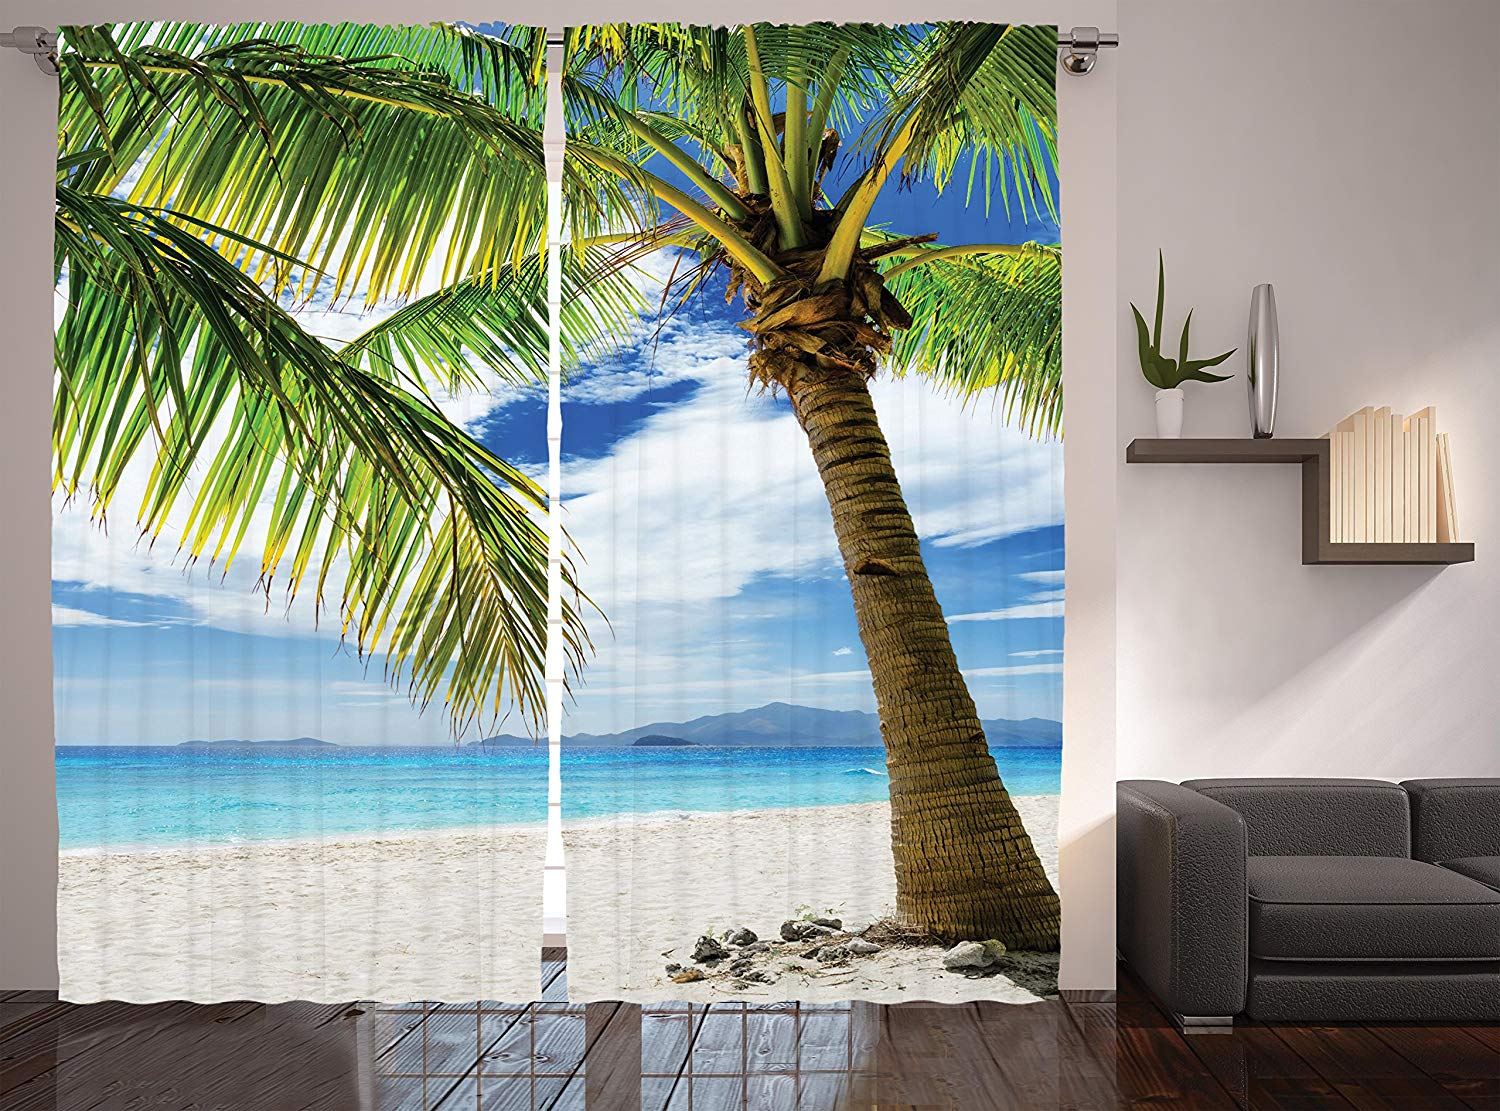buku: (1329, 417, 1465, 537)
sova: (1119, 768, 1500, 1016)
tanaman: (565, 26, 1056, 980), (1131, 264, 1214, 432)
